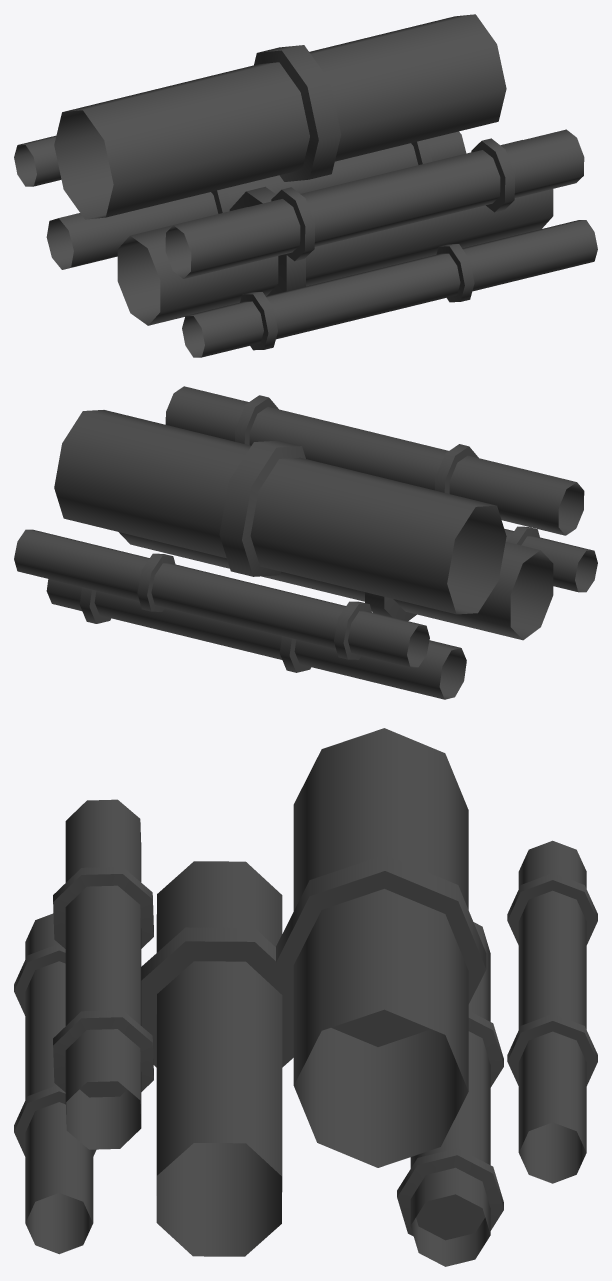
Rendered from Tubes_2x2.fbx.
3 renders of one model, top to bottom at view 1: azimuth 30°, elevation 25°; view 2: azimuth 150°, elevation 25°; view 3: azimuth 270°, elevation 25°, orthographic. The views are drawn at different scales.
Visible parts, largest first — view 1: Tubes_2x2; view 2: Tubes_2x2; view 3: Tubes_2x2.
Boxes of the visible parts, x1=… form: Tubes_2x2: x1=14, y1=14, x2=597, y2=357; Tubes_2x2: x1=14, y1=386, x2=597, y2=699; Tubes_2x2: x1=14, y1=728, x2=597, y2=1266.
Bounding box in the file's own units: 200 × 94.55 × 175.
